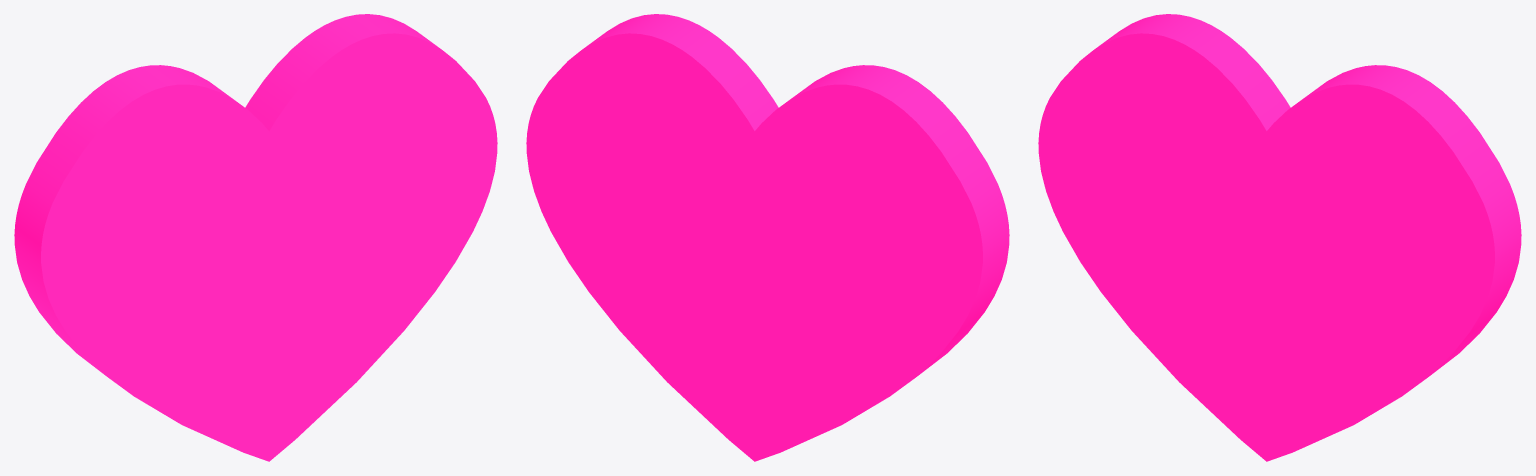
The model's file is heart.glb.
3 views of the same model, side by side, from view 1: azimuth 30°, elevation 25°; view 2: azimuth 150°, elevation 25°; view 3: azimuth 330°, elevation 25° (orthographic).
Parts seen in each view (by area): view 1: Tapa_1, heart; view 2: Tapa_2, heart; view 3: Tapa_1, heart.
Part boxes in pixels (box(x1,y1,x2,y2)): Tapa_1: box(41, 33, 497, 461); heart: box(14, 14, 441, 392); Tapa_2: box(526, 33, 982, 461); heart: box(582, 14, 1009, 392); Tapa_1: box(1038, 33, 1494, 461); heart: box(1094, 14, 1521, 392).
Size of the model in its own units: 3.86 by 3.23 by 0.3882.
